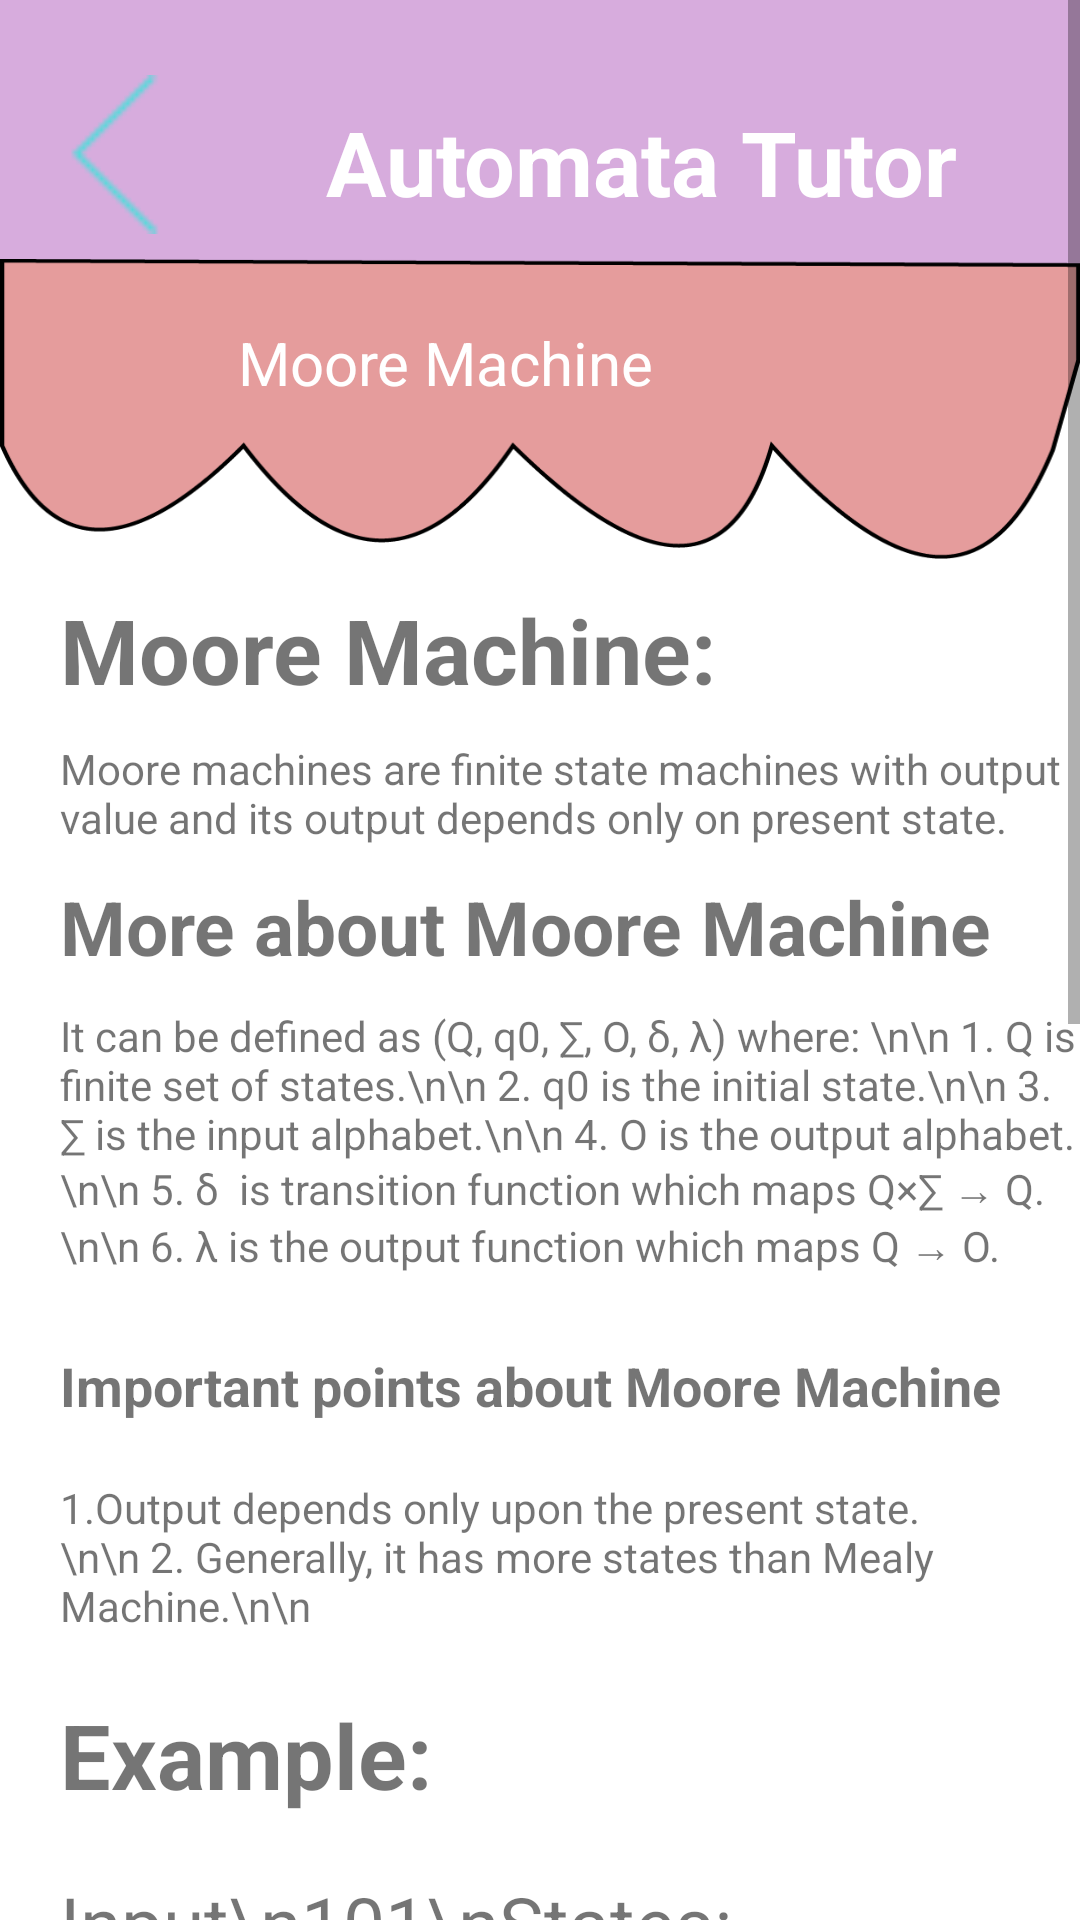

Icon bounding boxes for this 1080px x 1920px phone screenshot, format (x1, y1, x2, y2):
backiconimg: (72, 75, 158, 234)
